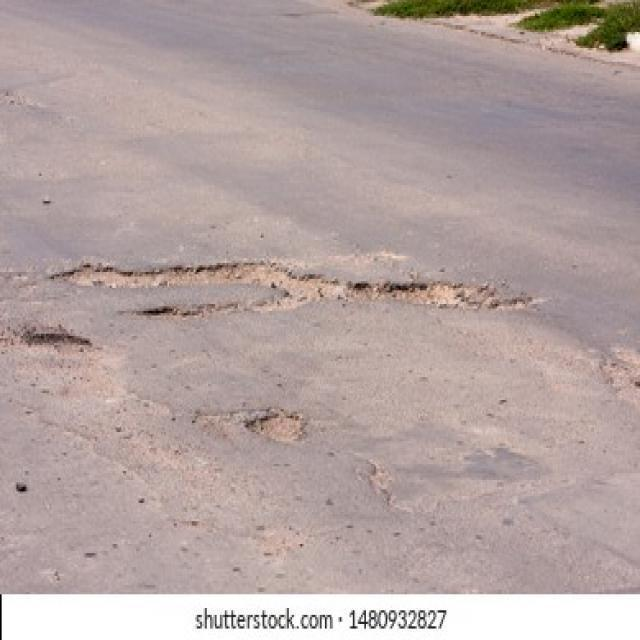pothole: (48, 258, 539, 313), (0, 327, 125, 407), (594, 341, 640, 414), (243, 409, 307, 446), (125, 300, 265, 316)
